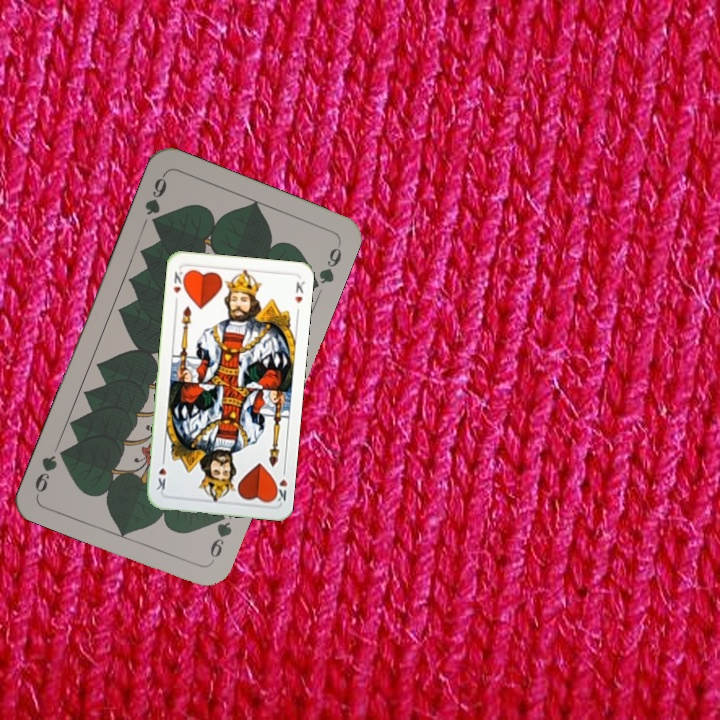G9: (140, 170, 170, 230), (206, 506, 235, 566)
HK: (269, 464, 290, 505), (169, 267, 189, 306)
